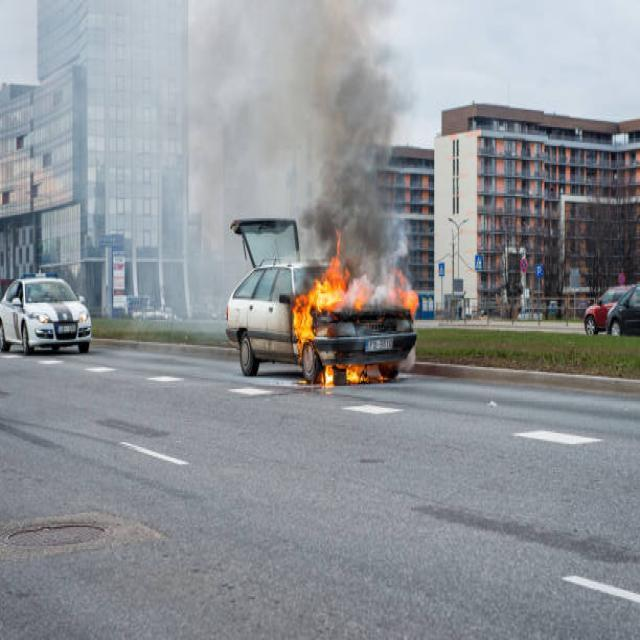Fire: (290, 226, 356, 362), (390, 265, 420, 319), (322, 358, 370, 386)
Smoke: (117, 0, 416, 314)
